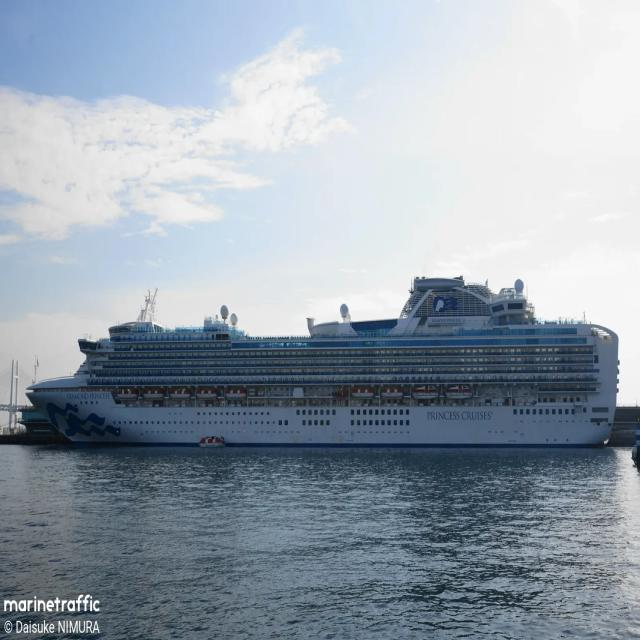Cruise: (26, 277, 619, 448)
